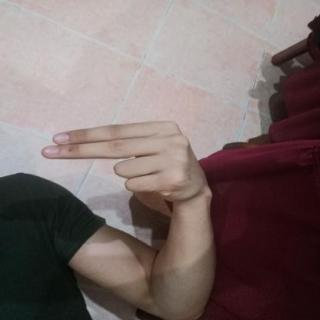AYN: (35, 111, 219, 213)
